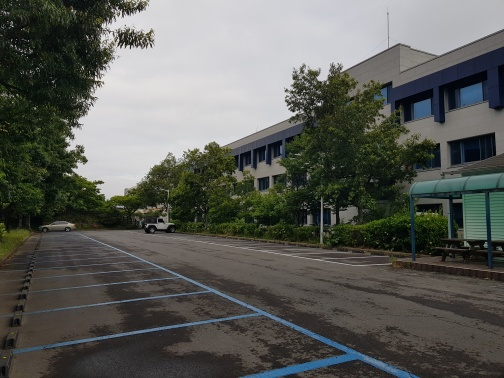College of Social Sciences: (184, 12, 504, 272)
